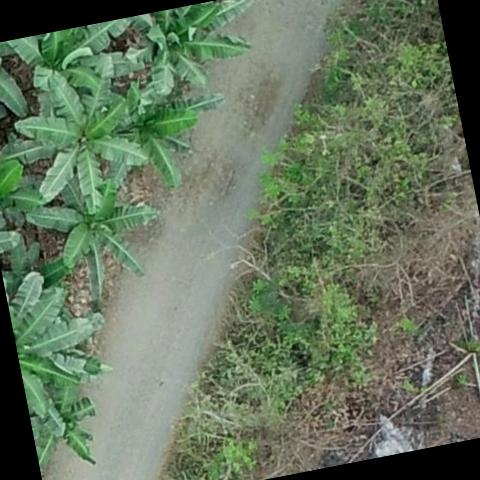Banana-plant: (2, 55, 164, 220), (20, 157, 171, 322), (85, 66, 222, 209), (6, 17, 146, 123), (126, 0, 269, 99), (24, 374, 112, 478)
